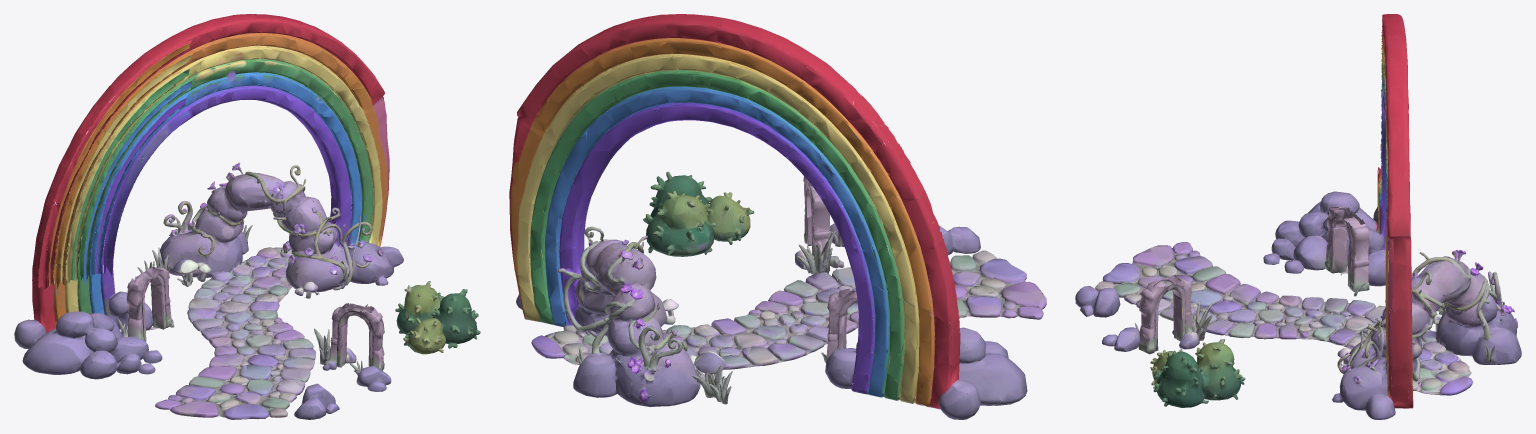
The model's file is unicorns_base.glb.
3 views of the same model, side by side, from view 1: azimuth 30°, elevation 25°; view 2: azimuth 150°, elevation 25°; view 3: azimuth 270°, elevation 25° (orthographic). The views are drawn at different scales.
Visible parts, largest first — view 1: Mesh_0; view 2: Mesh_0; view 3: Mesh_0.
Part boxes in pixels (x1=…): Mesh_0: x1=14, y1=14, x2=480, y2=419; Mesh_0: x1=509, y1=14, x2=1046, y2=419; Mesh_0: x1=1075, y1=14, x2=1521, y2=419.
Bounding box in the file's own units: 1.9 × 1.27 × 1.75.
Materials: 1 (1 with a texture image).
